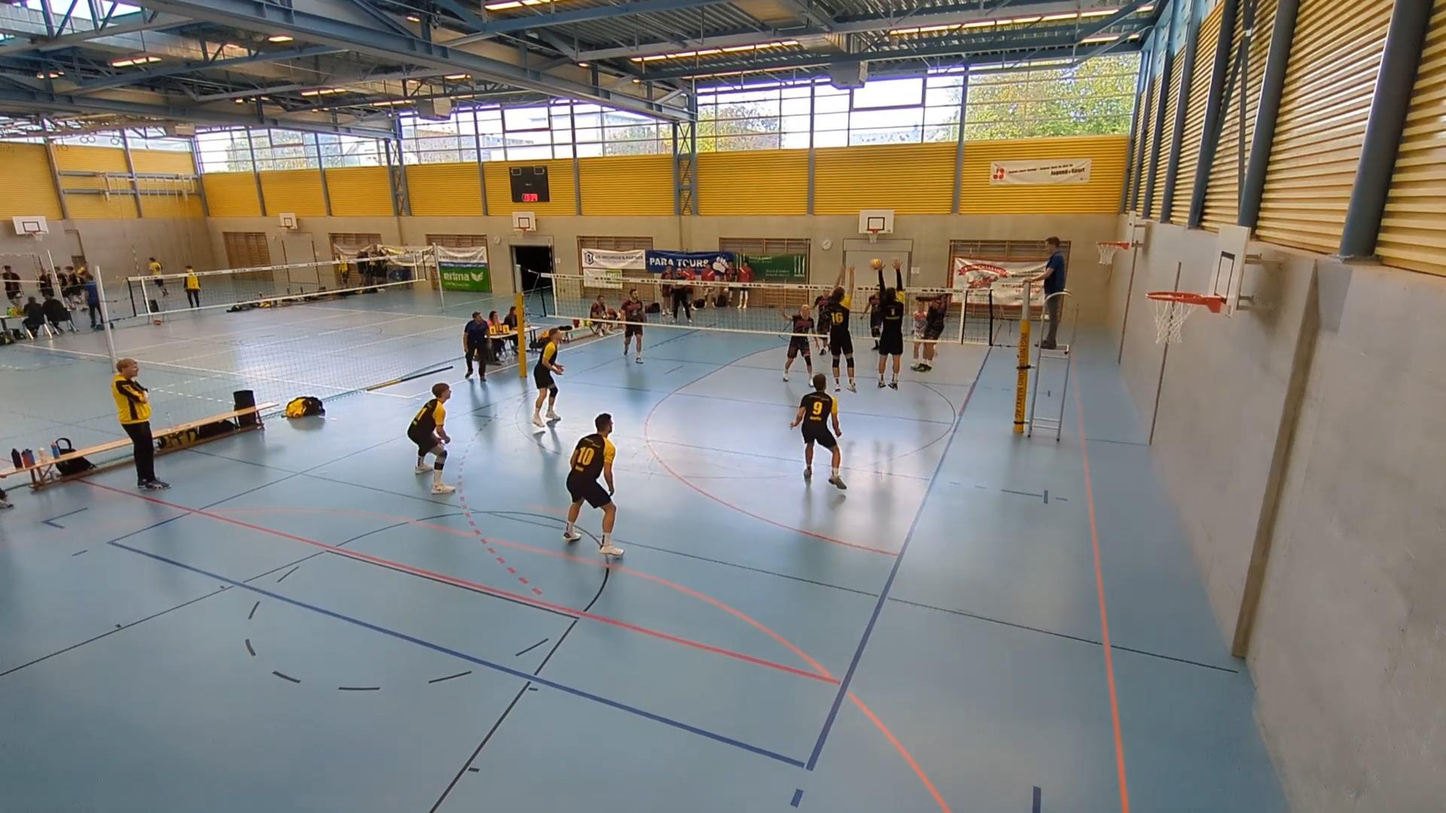attacco: (916, 274, 958, 381)
muro: (817, 263, 860, 404), (871, 258, 911, 395)
